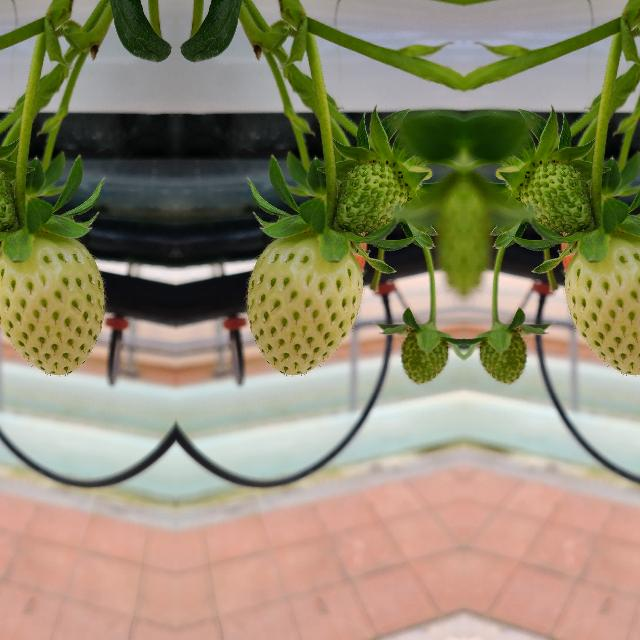Health_25: (245, 233, 362, 374), (0, 233, 104, 374), (563, 233, 640, 374), (338, 158, 408, 238), (518, 158, 588, 238), (398, 324, 450, 388), (476, 324, 528, 388)
